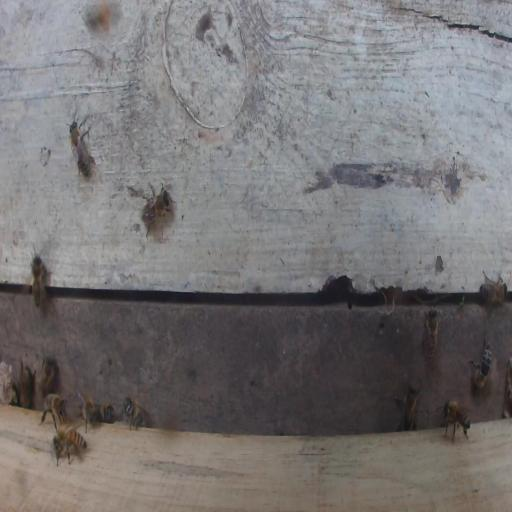nonpollenbee: (65, 106, 97, 180), (140, 180, 178, 239), (25, 240, 53, 316), (51, 418, 89, 465), (468, 327, 491, 395), (477, 268, 508, 313), (442, 398, 473, 441), (17, 352, 37, 412), (394, 384, 419, 430), (421, 305, 440, 362), (38, 352, 61, 399), (123, 395, 153, 431), (77, 387, 99, 433), (41, 393, 66, 431), (95, 402, 117, 423)
